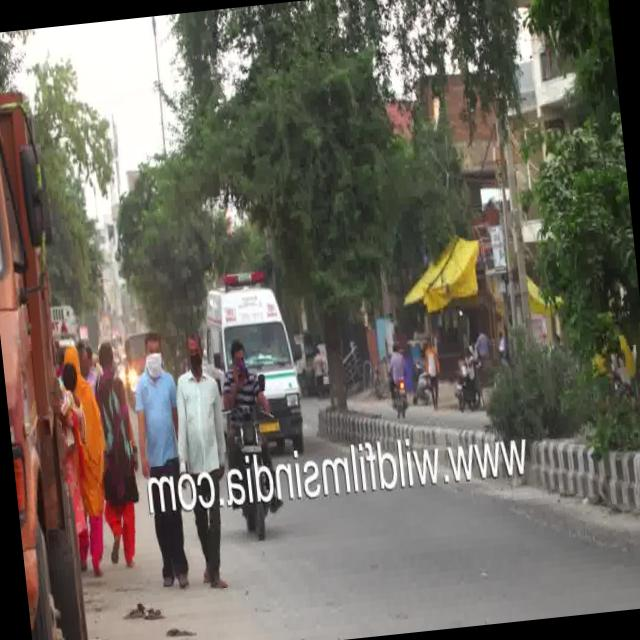ambulance: (200, 263, 305, 443)
